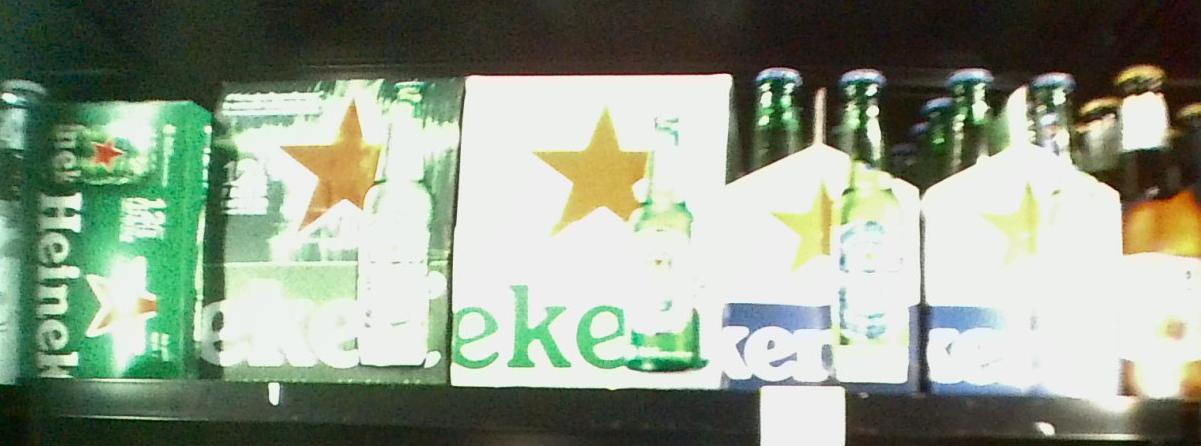bottle: (461, 74, 729, 378), (211, 75, 454, 382), (924, 64, 1118, 396), (734, 70, 920, 382), (26, 98, 209, 381)
